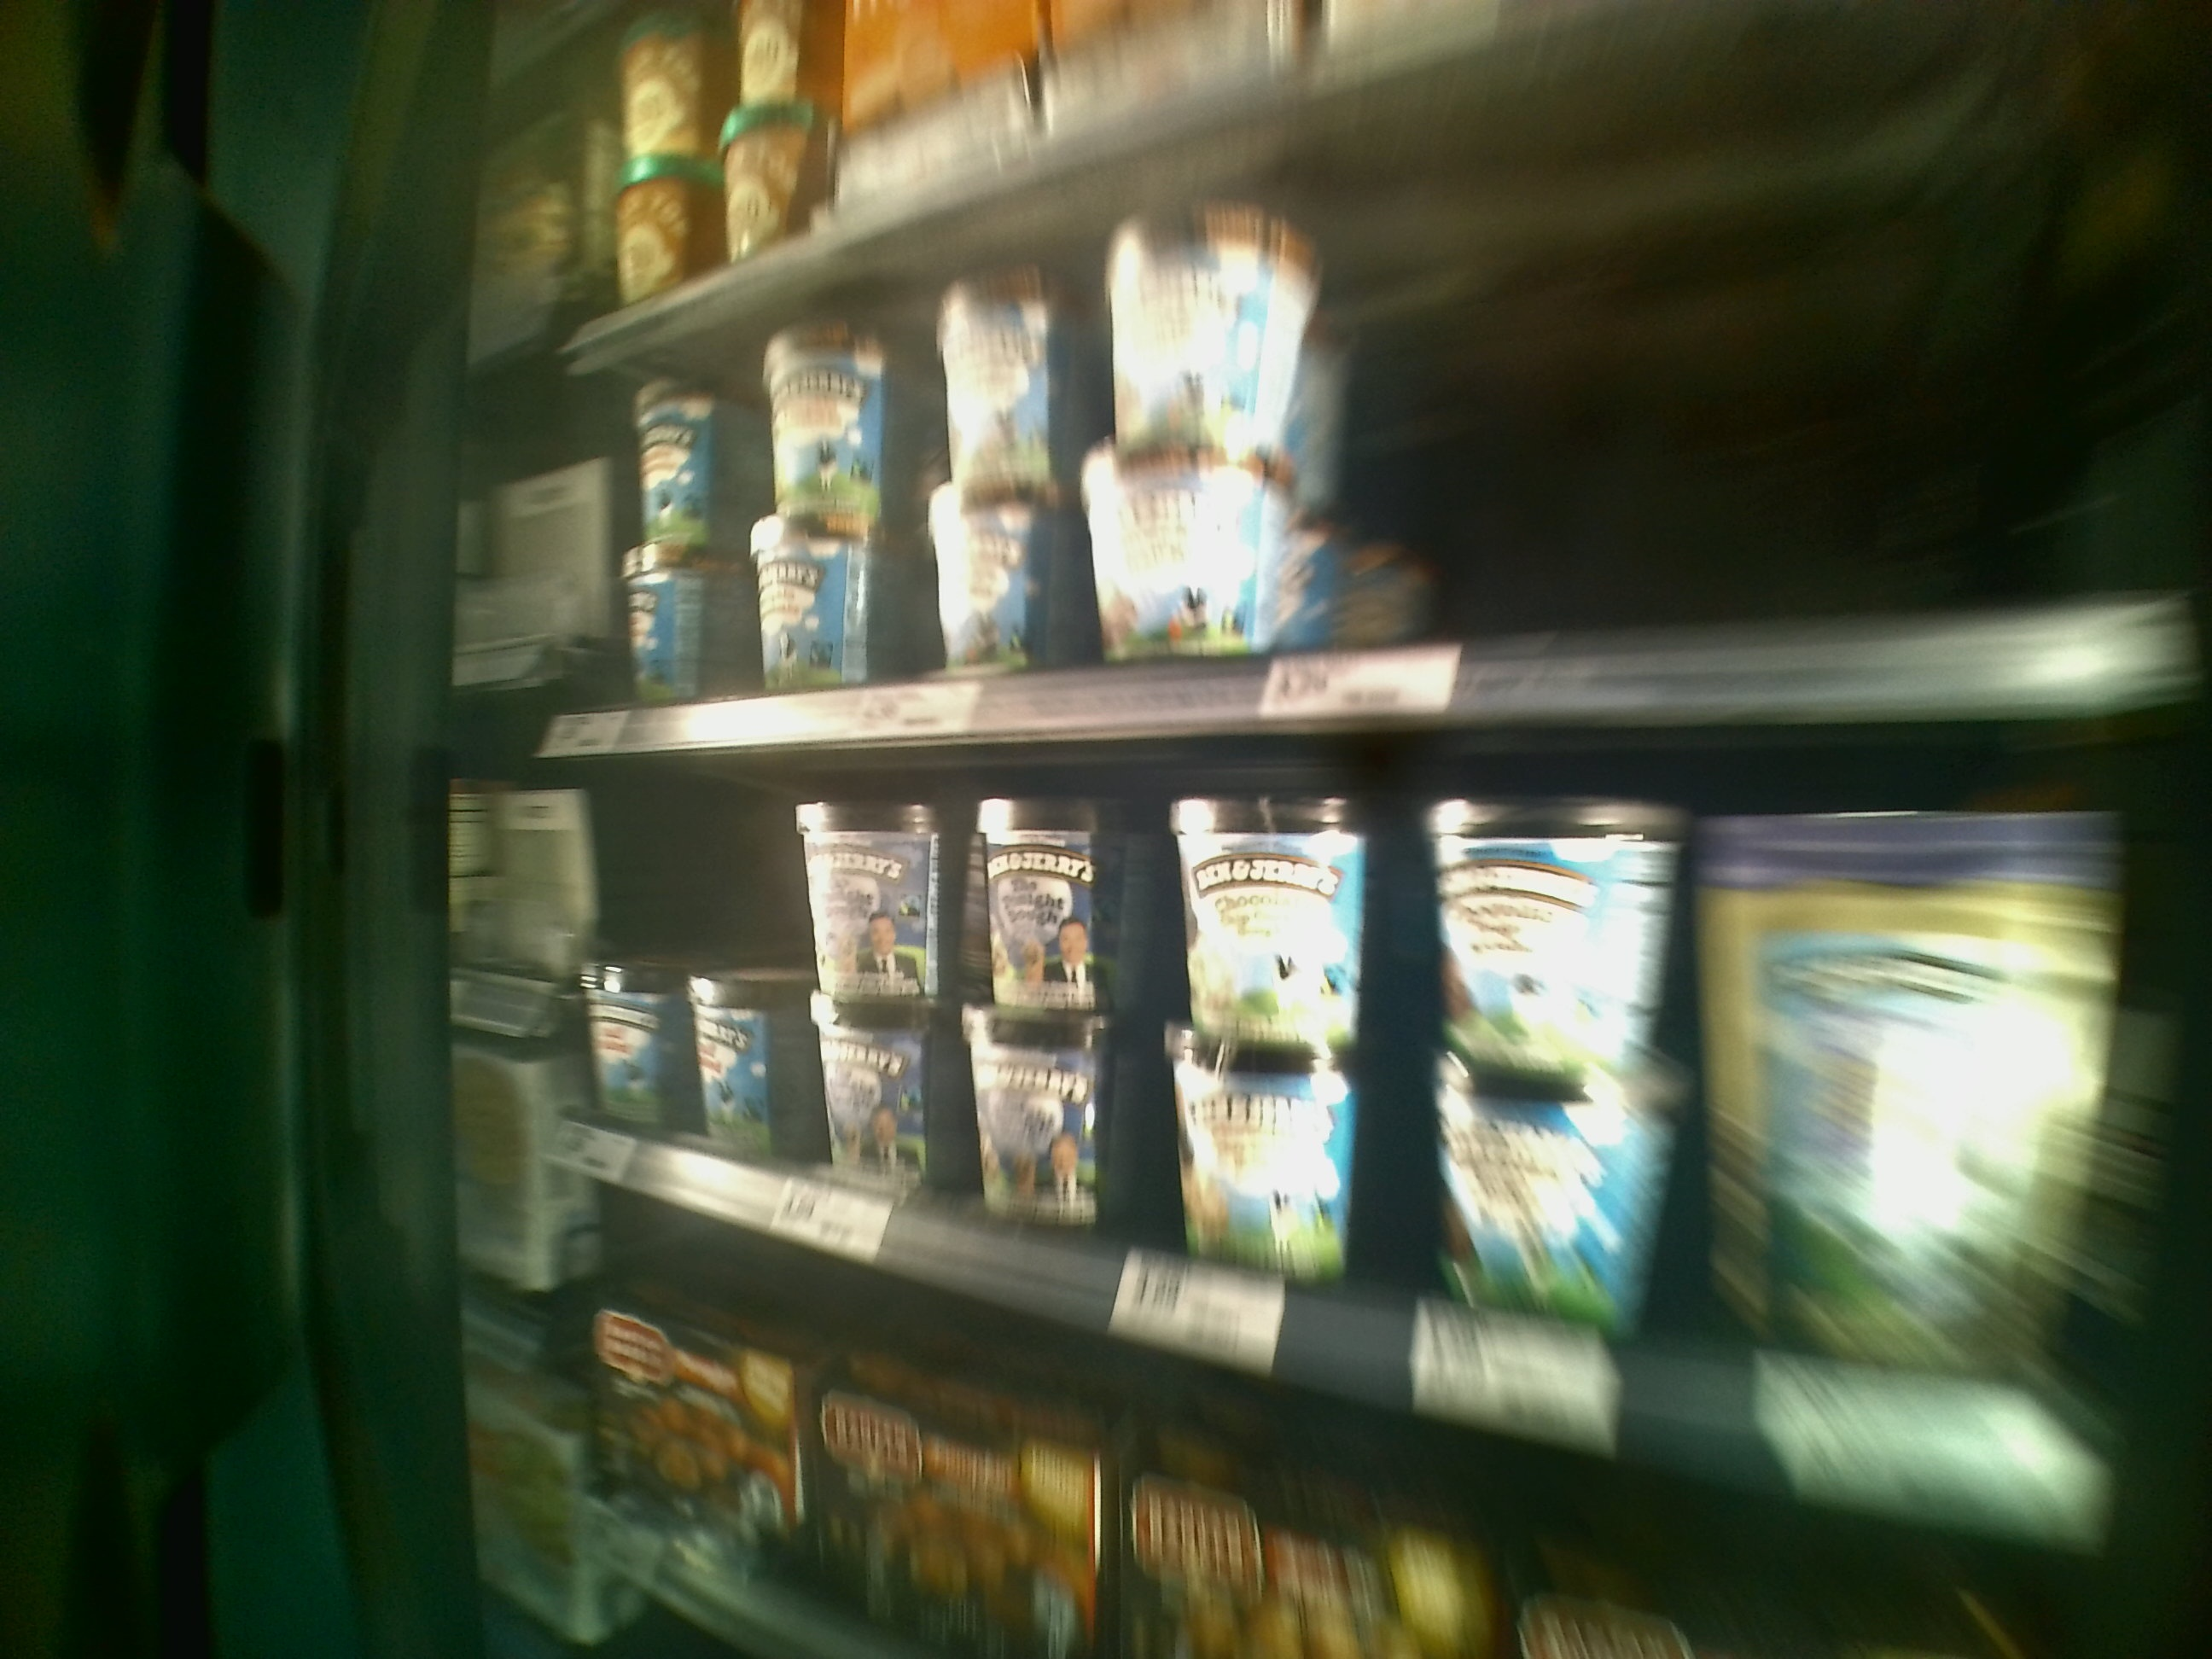shelf: (540, 718, 2088, 1448)
